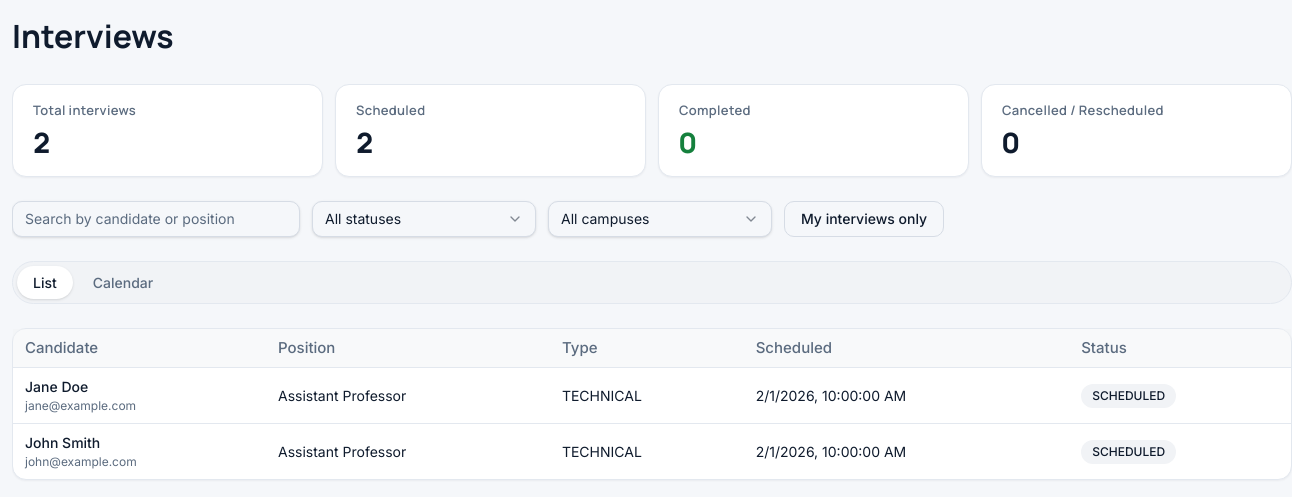
InterviewsListPage › narrows the list client-side to interviews where the current user is an assigned panel member
Expected: the link "Jane Doe" is shown, top-left (25, 378), bottom-right (88, 395)
Expected: the link "John Smith" is shown, top-left (25, 434), bottom-right (100, 451)
Click the button "My interviews only". click: (864, 218)
box: top-left (784, 200), bottom-right (944, 236)
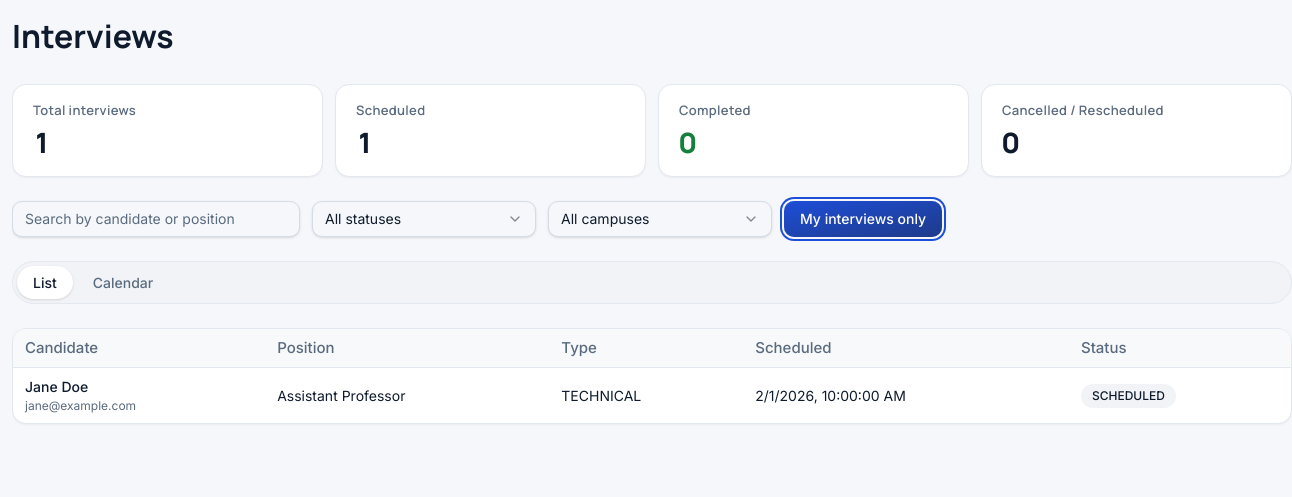
Expected: the link "Jane Doe" is shown, top-left (25, 378), bottom-right (88, 395)
Now the link "John Smith" is gone
